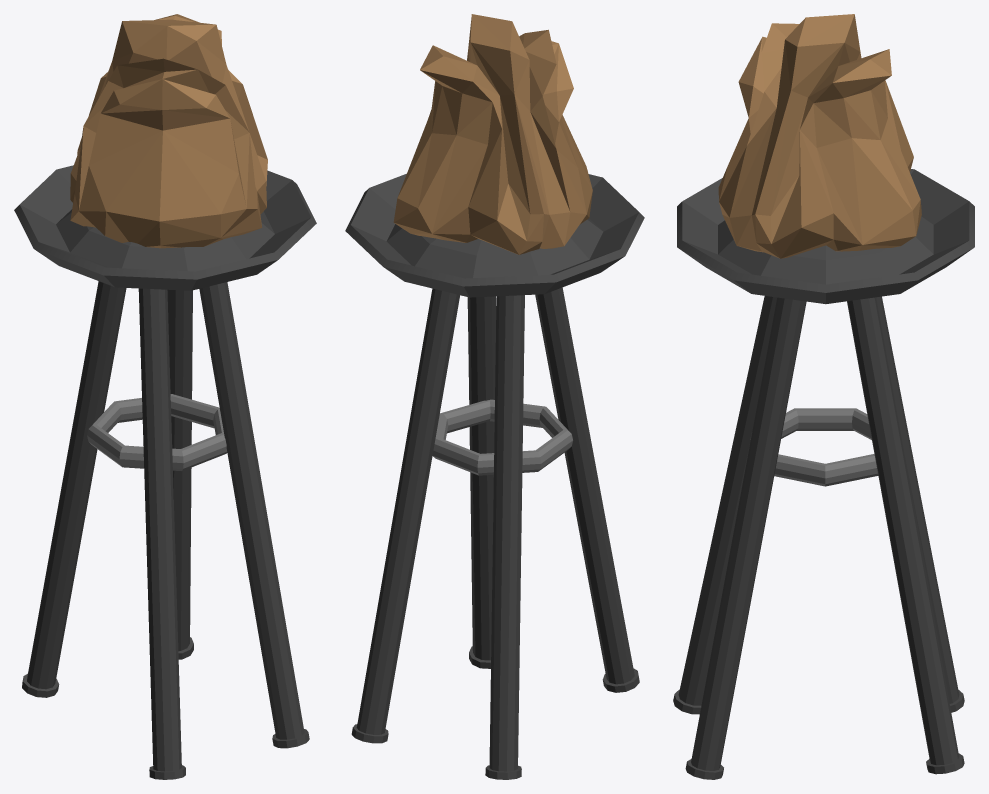
Rendered from TorchStandLit.fbx.
3 renders of one model, left to right at view 1: azimuth 30°, elevation 25°; view 2: azimuth 150°, elevation 25°; view 3: azimuth 270°, elevation 25°, orthographic. The views are drawn at different scales.
Parts seen in each view (by area): view 1: TorchStand; view 2: TorchStand; view 3: TorchStand.
Boxes of the visible parts, box(x1,y1,x2,y2) form: TorchStand: box(14, 14, 316, 779); TorchStand: box(345, 14, 644, 779); TorchStand: box(673, 14, 974, 779).
Bounding box in the file's own units: 54.6 × 139 × 52.6.
